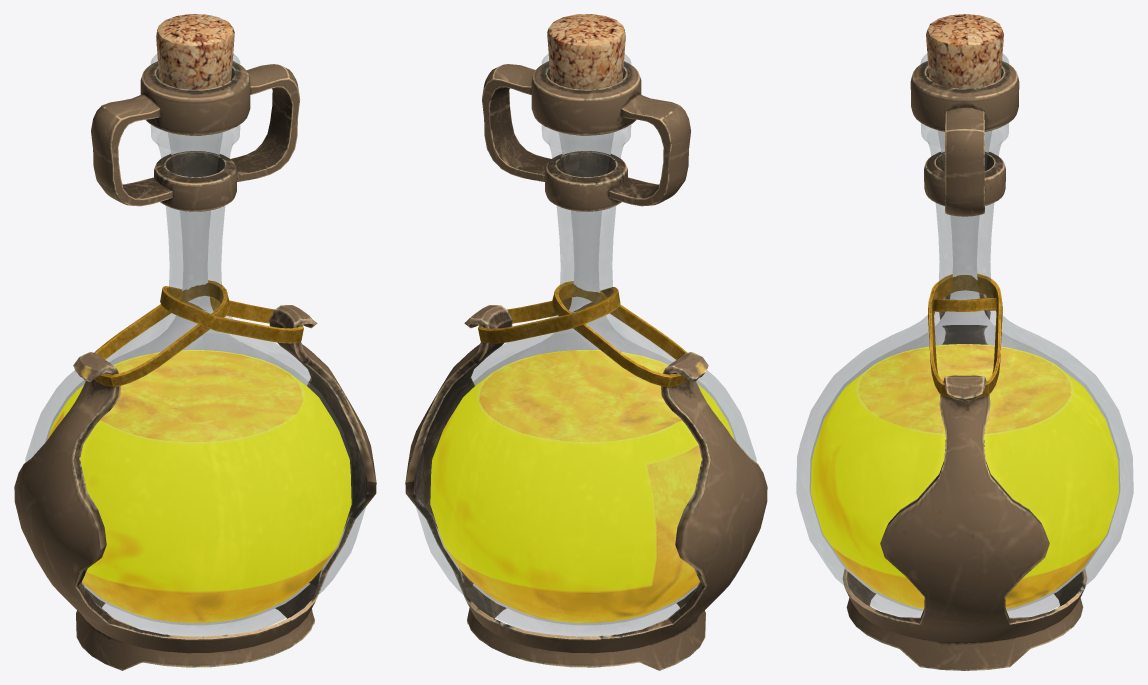
File: the_fool.glb
3 renders of one model, left to right at view 1: azimuth 30°, elevation 25°; view 2: azimuth 150°, elevation 25°; view 3: azimuth 270°, elevation 25°, orthographic.
Parts seen in each view (by area): view 1: Portion4; view 2: Portion4; view 3: Portion4.
Boxes of the visible parts, x1,y1,x2,y2 form: Portion4: (14,14,376,670); Portion4: (405,14,767,670); Portion4: (796,14,1133,670).
Size of the model in its own units: 26.29 by 48.69 by 25.
1 material, 1 textured.
